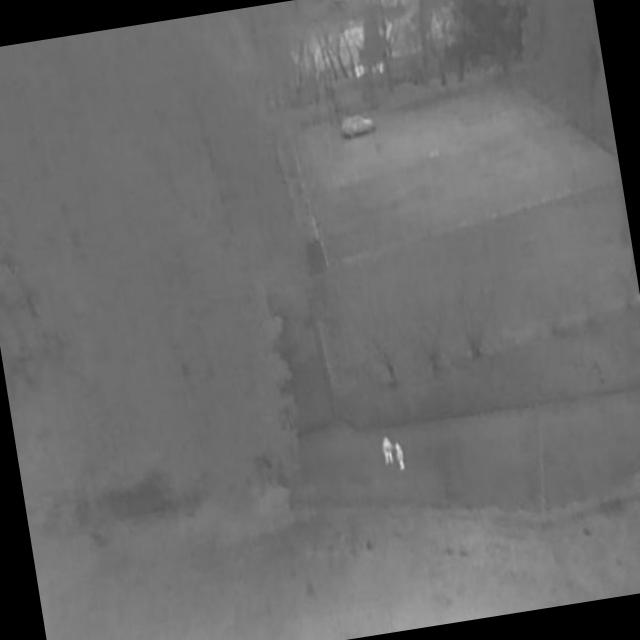person: (380, 435, 398, 467), (393, 442, 408, 474)
